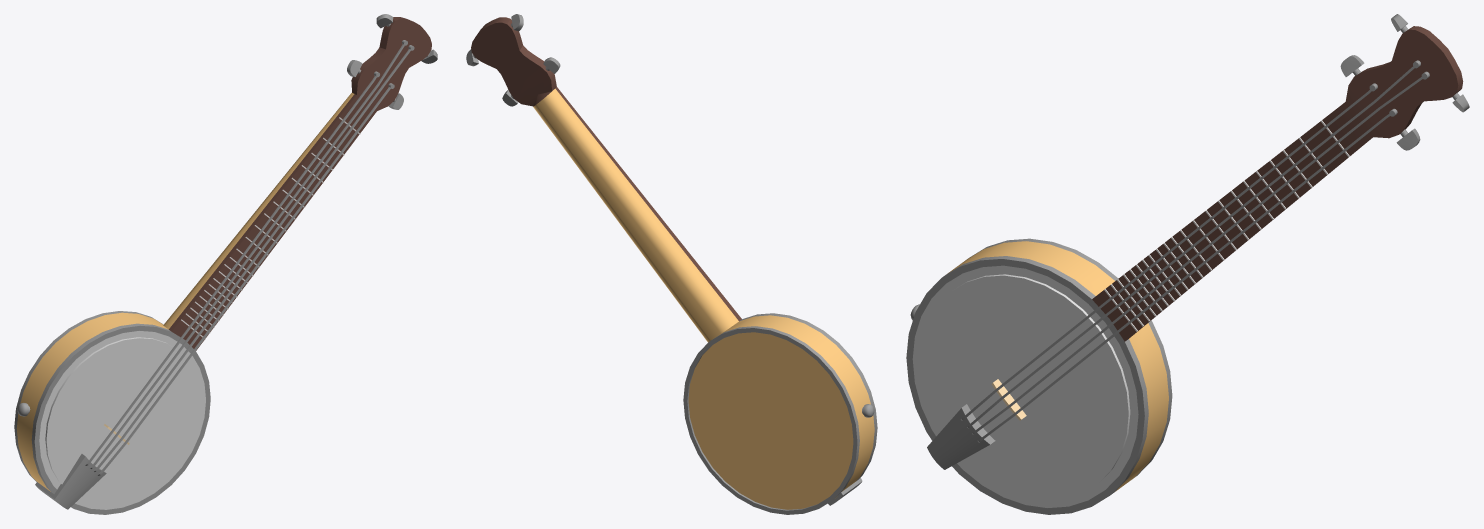
File: banjo.glb
3 views of the same model, side by side, from view 1: azimuth 30°, elevation 25°; view 2: azimuth 150°, elevation 25°; view 3: azimuth 330°, elevation 25° (orthographic). The views are drawn at different scales.
Parts seen in each view (by area): view 1: Cylinder.494; view 2: Cylinder.494; view 3: Cylinder.494.
Boxes of the visible parts, <box> form: Cylinder.494: <box>14,14,437,514</box>; Cylinder.494: <box>466,14,877,514</box>; Cylinder.494: <box>906,14,1469,514</box>.
Size of the model in its own units: 2.35 by 2.32 by 0.2639.
1 material, 1 textured.
